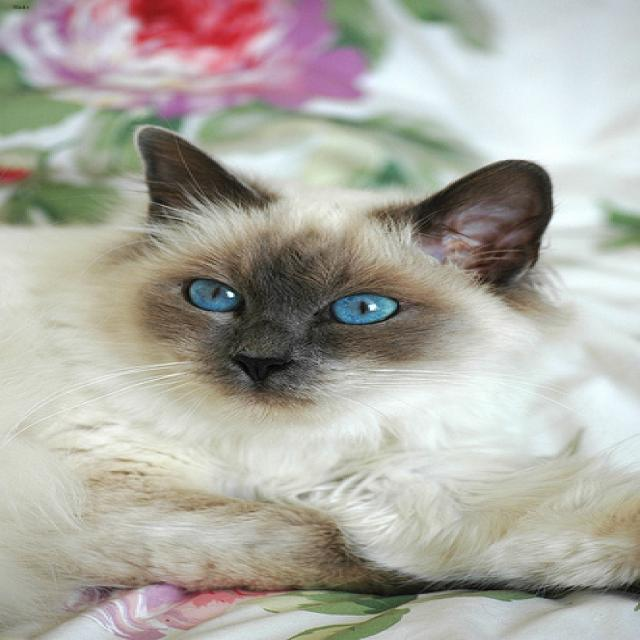cat: (102, 123, 550, 420)
